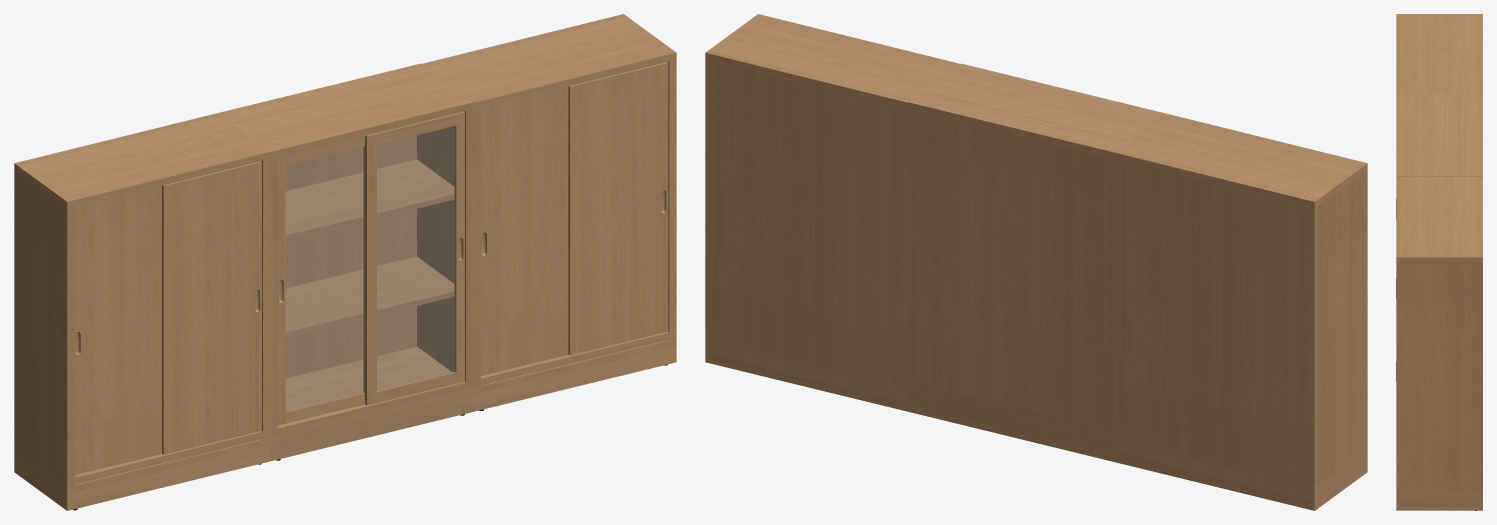
The model's file is tonstad_kombinacja_z_drzwiami_przesuwnymi_99515057.glb.
3 views of the same model, side by side, from view 1: azimuth 30°, elevation 25°; view 2: azimuth 150°, elevation 25°; view 3: azimuth 270°, elevation 25° (orthographic). The views are drawn at different scales.
Parts seen in each view (by area): view 1: tonstad_kombinacja_z_drzwiami_przesuwnymi_99515057; view 2: tonstad_kombinacja_z_drzwiami_przesuwnymi_99515057; view 3: tonstad_kombinacja_z_drzwiami_przesuwnymi_99515057.
Part boxes in pixels (bbox=[...]): tonstad_kombinacja_z_drzwiami_przesuwnymi_99515057: bbox=[14, 14, 676, 510]; tonstad_kombinacja_z_drzwiami_przesuwnymi_99515057: bbox=[705, 14, 1367, 510]; tonstad_kombinacja_z_drzwiami_przesuwnymi_99515057: bbox=[1396, 14, 1482, 510].
Bounding box in the file's own units: 2.46 × 1.2 × 0.3707.
Materials: 2 (2 with a texture image).
